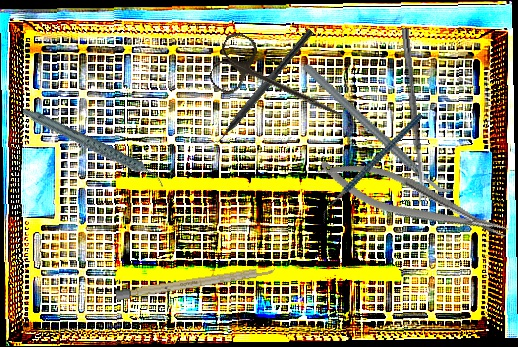Chopper: (301, 29, 456, 230), (298, 112, 447, 225), (201, 21, 315, 155)
Handpiece: (20, 81, 167, 214)
Iris Scissors: (205, 28, 355, 141)
Needle Holder: (312, 145, 513, 257)
Scalpel Handle: (115, 265, 276, 301)
Surgical Spoon: (400, 27, 427, 203)
